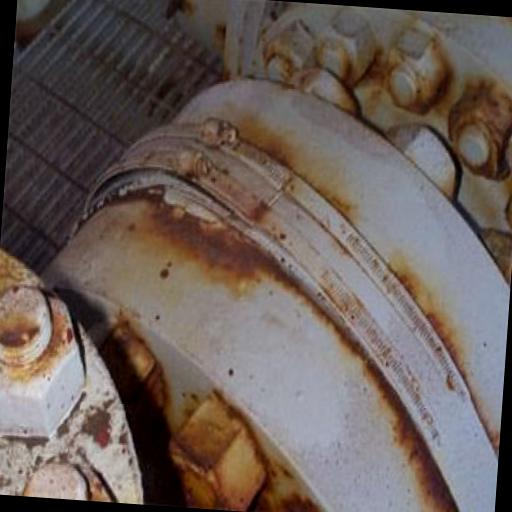segmentation: (144, 392, 289, 512), (135, 197, 292, 294), (87, 314, 197, 442), (449, 79, 512, 179), (0, 324, 38, 347)
